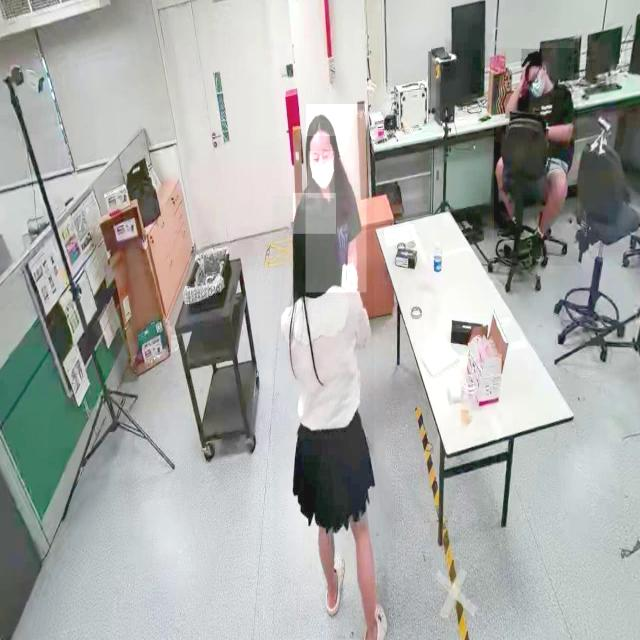face_mask: (308, 151, 334, 198), (529, 62, 549, 112)
hand_noglove: (520, 59, 531, 88)
head_nohelmet: (292, 193, 336, 235), (306, 112, 337, 137), (521, 49, 541, 67)
person: (272, 196, 374, 639), (493, 48, 578, 267), (306, 104, 366, 292)
